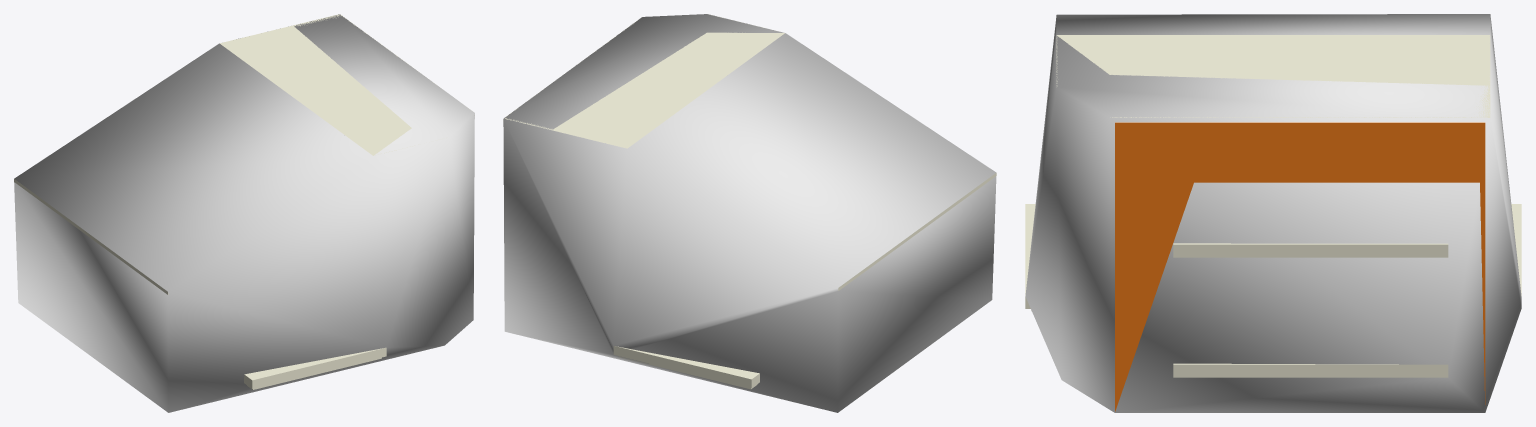
3 renders of one model, left to right at view 1: azimuth 30°, elevation 25°; view 2: azimuth 150°, elevation 25°; view 3: azimuth 270°, elevation 25°, orthographic. The views are drawn at different scales.
Visible parts, largest first — view 1: struct_city_block_tall_tier3_b_01_col, struct_city_block_tall_tier3_b_01; view 2: struct_city_block_tall_tier3_b_01_col, struct_city_block_tall_tier3_b_01; view 3: struct_city_block_tall_tier3_b_01_col, struct_city_block_tall_tier3_b_01.
Boxes of the visible parts, left/top/right/bottom form: struct_city_block_tall_tier3_b_01_col: left=14, top=14, right=474, bottom=412; struct_city_block_tall_tier3_b_01: left=14, top=14, right=474, bottom=389; struct_city_block_tall_tier3_b_01_col: left=503, top=14, right=996, bottom=412; struct_city_block_tall_tier3_b_01: left=503, top=14, right=996, bottom=389; struct_city_block_tall_tier3_b_01_col: left=1025, top=14, right=1521, bottom=412; struct_city_block_tall_tier3_b_01: left=1025, top=35, right=1521, bottom=411.
Bounding box in the file's own units: 9.14 × 5.55 × 8.48.
1 material, 1 textured.
